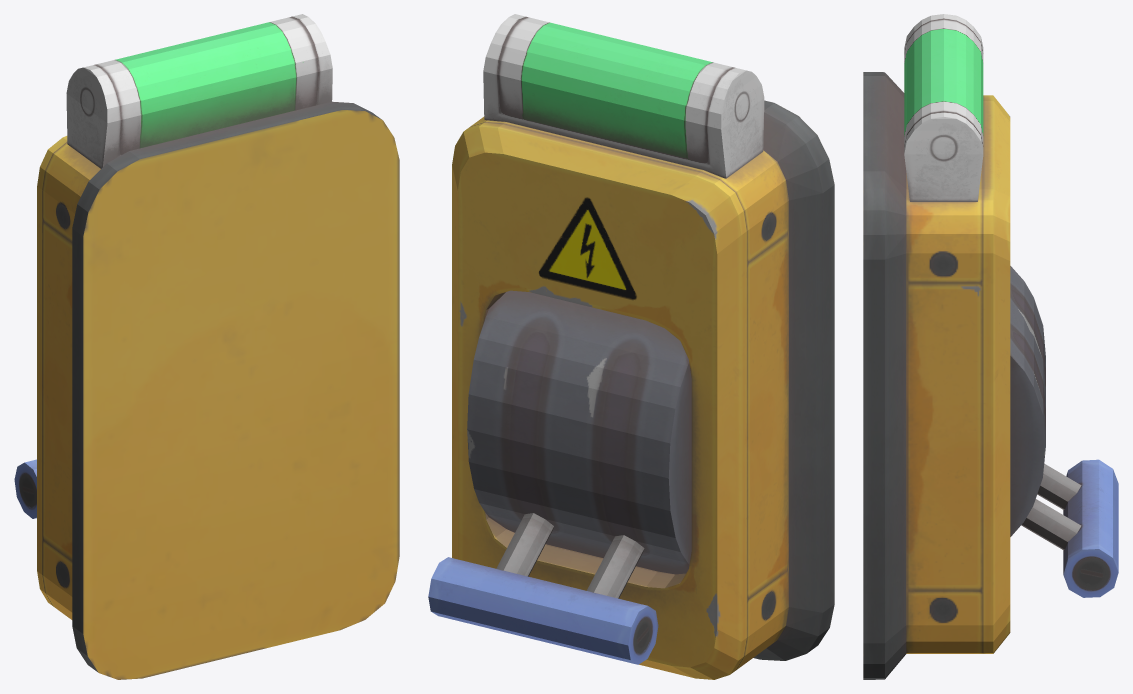
File: P_Breaker_001_S1_M01.obj
3 views of the same model, side by side, from view 1: azimuth 30°, elevation 25°; view 2: azimuth 150°, elevation 25°; view 3: azimuth 270°, elevation 25° (orthographic). The views are drawn at different scales.
Size of the model in its own units: 0.4096 by 0.7183 by 0.2966.
Materials: 1 (1 with a texture image).
